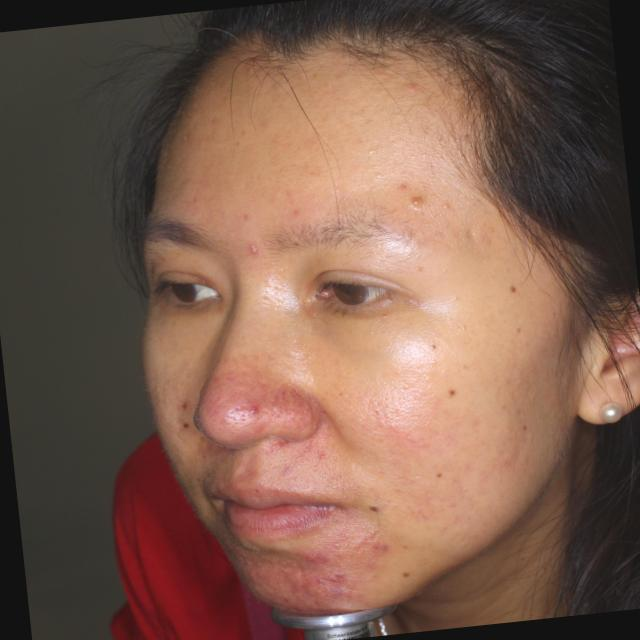blackhead: (432, 345, 436, 347)
nodule: (410, 196, 424, 209)
